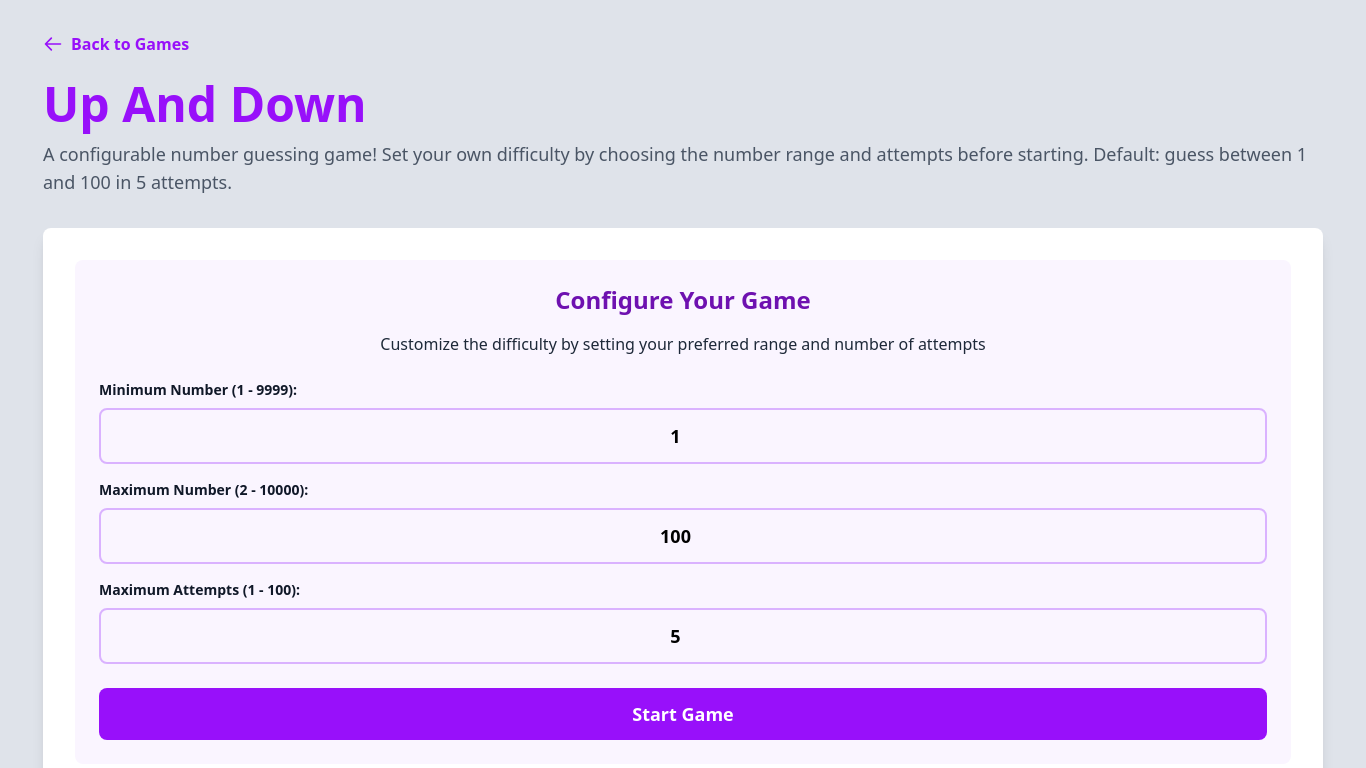
Scenario: NumberGuessPage › Game Start › should transition from configuration to game screen on start
Click the button "Start Game": (683, 714) [99,688,1267,740]
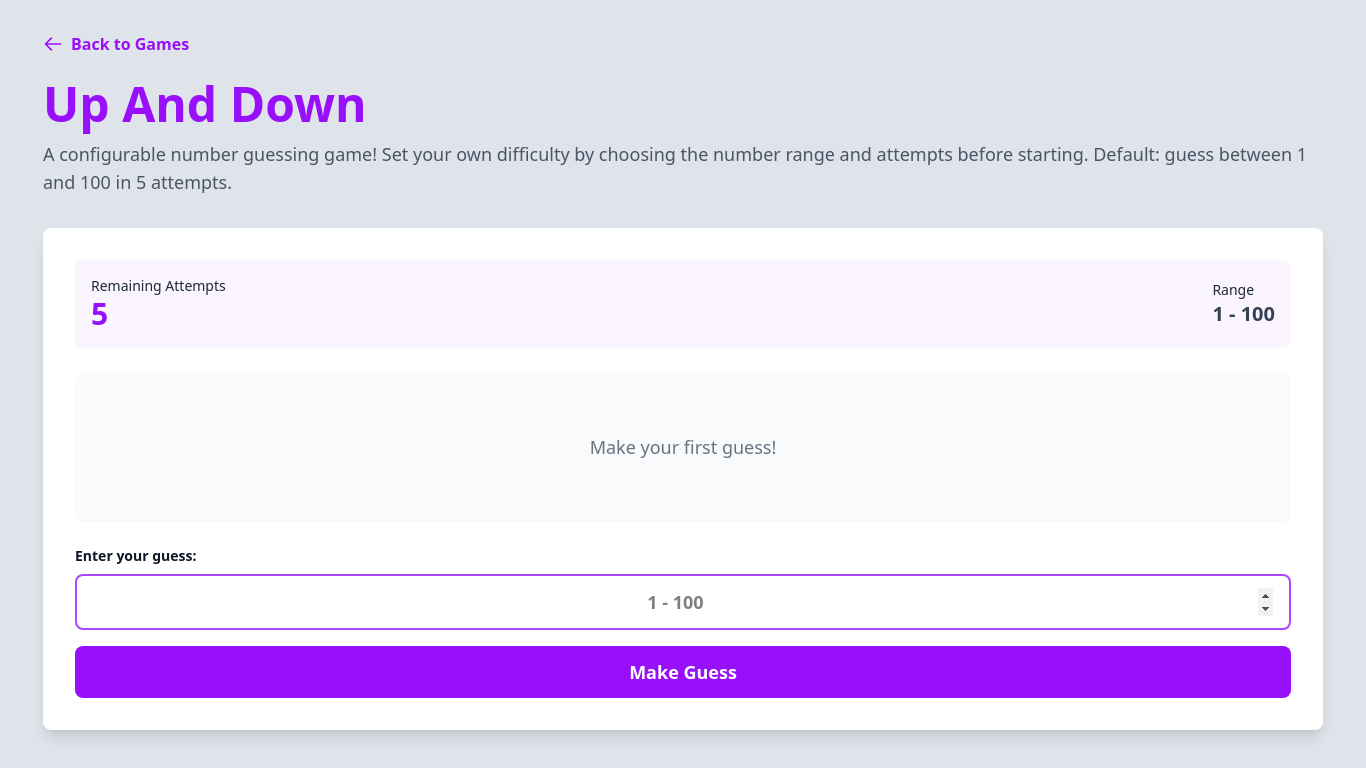
Expected: the text "Range" is shown, [1212,280,1254,299]
Expected: the heading "Configure Your Game" is gone
Expected: the text "Remaining Attempts" is shown, [91,276,226,296]
